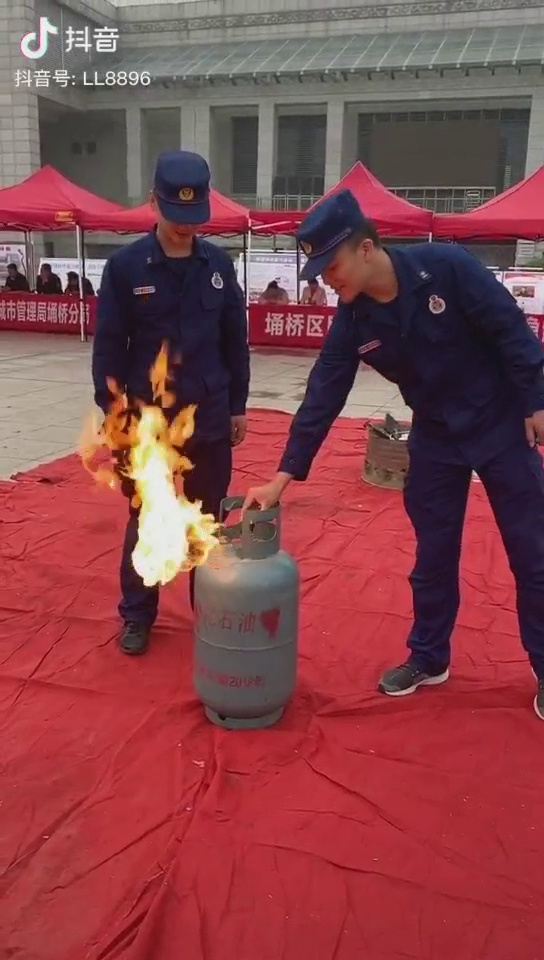fire: (88, 378, 218, 581)
